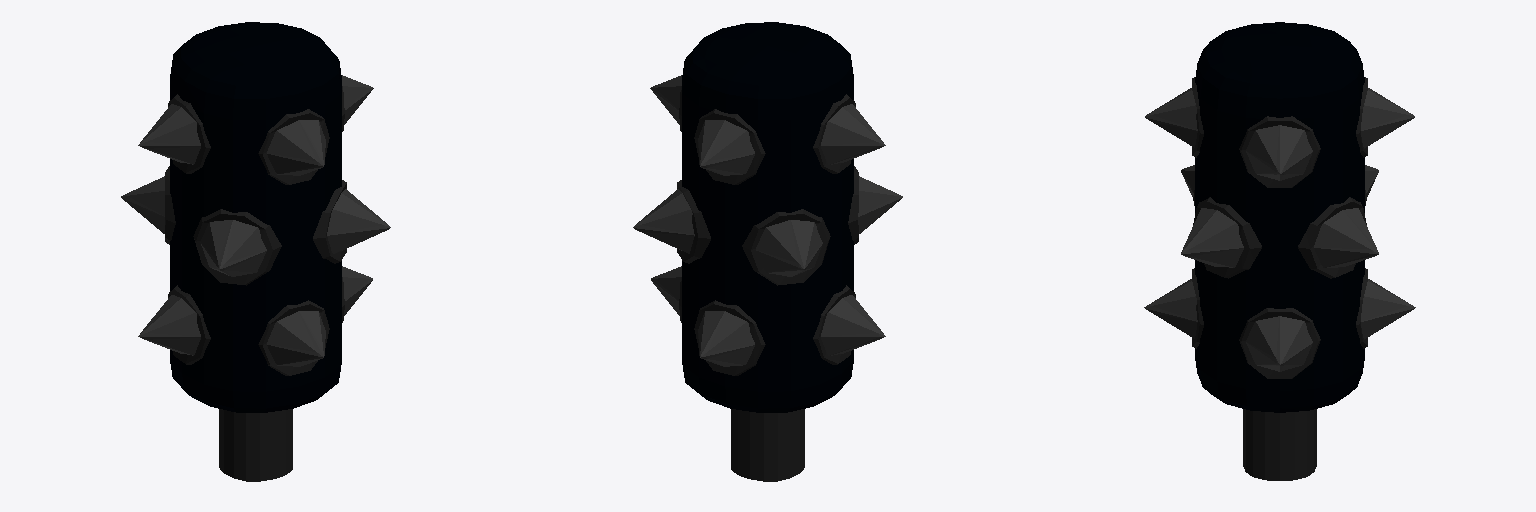
File: Hazard_Cylinder.obj
The picture shows the model from 3 angles: view 1: azimuth 30°, elevation 25°; view 2: azimuth 150°, elevation 25°; view 3: azimuth 270°, elevation 25°; orthographic projection.
Visible parts, largest first — view 1: Hazard_Cylinder_Cube.269; view 2: Hazard_Cylinder_Cube.269; view 3: Hazard_Cylinder_Cube.269.
Boxes of the visible parts, box(x1,y1,x2,y2) form: Hazard_Cylinder_Cube.269: box(121, 22, 390, 481); Hazard_Cylinder_Cube.269: box(633, 22, 902, 481); Hazard_Cylinder_Cube.269: box(1144, 22, 1415, 480).
Bounding box in the file's own units: 2.28 × 3.88 × 2.28.